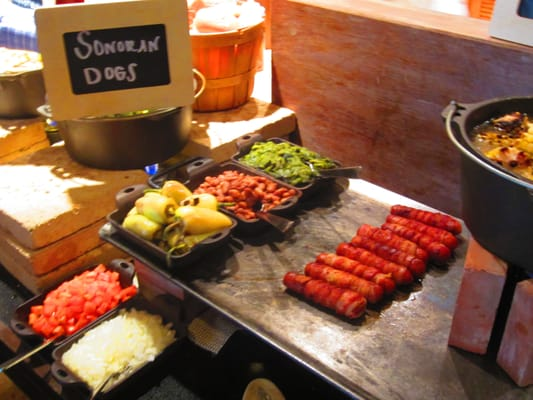sushi: (442, 97, 533, 278), (106, 188, 237, 268)
